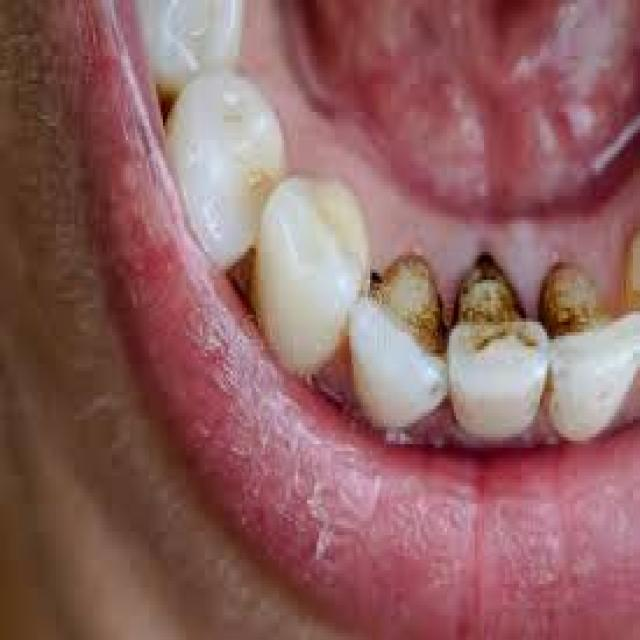Tooth Discoloration: (367, 247, 588, 362)
